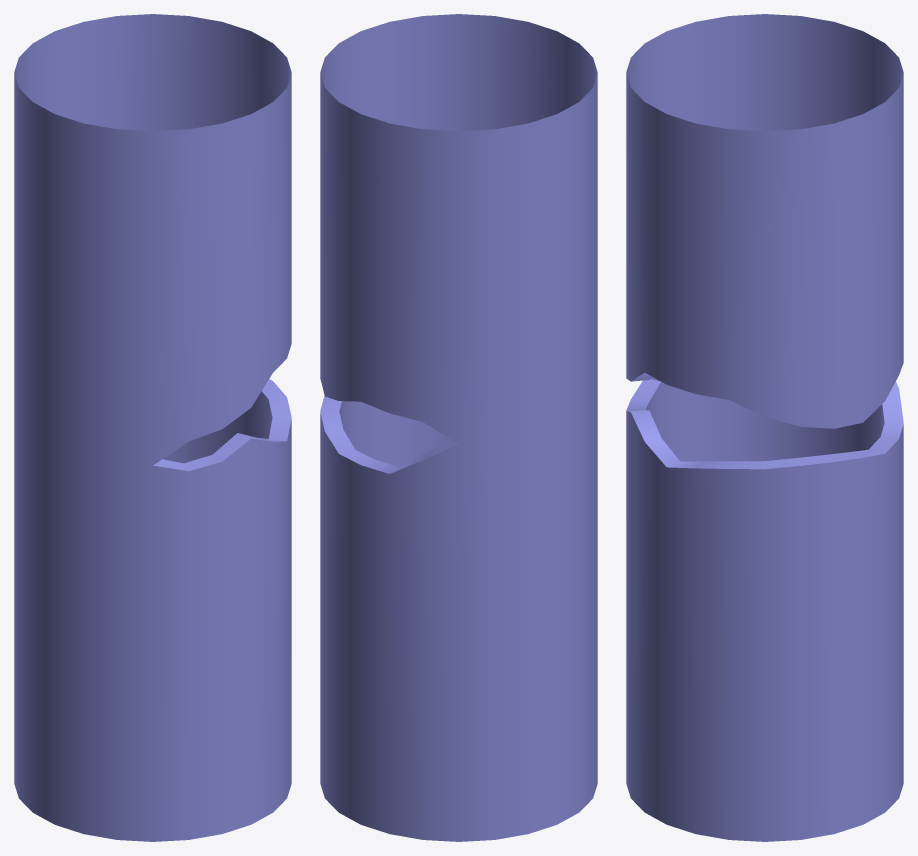
Rendered from pipe_crack_low.fbx.
The picture shows the model from 3 angles, left to right: view 1: azimuth 30°, elevation 25°; view 2: azimuth 150°, elevation 25°; view 3: azimuth 270°, elevation 25°; orthographic projection.
Visible parts, largest first — view 1: pipe_crack_low; view 2: pipe_crack_low; view 3: pipe_crack_low.
Part boxes in pixels (x1,y1,x2,y2): pipe_crack_low: (14, 14, 291, 841); pipe_crack_low: (320, 14, 597, 841); pipe_crack_low: (626, 14, 903, 841).
Bounding box in the file's own units: 106 × 300 × 106.
